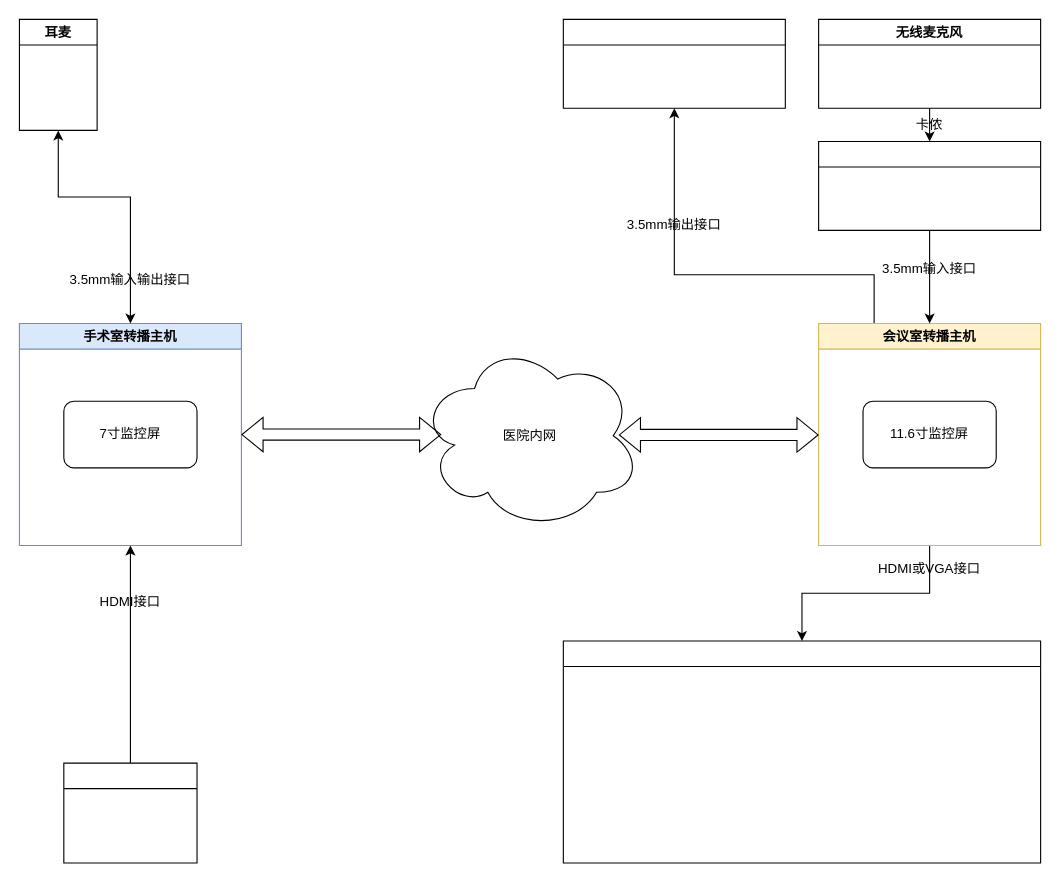
This 1060x882 diagram has some shape labels left out. The centre of each missing label's shape, as x and y in pixels:
前置混响器: pixel 929 185
大屏幕或投影机: pixel 801 751
有源音箱: pixel 673 63
腔镜: pixel 130 812
